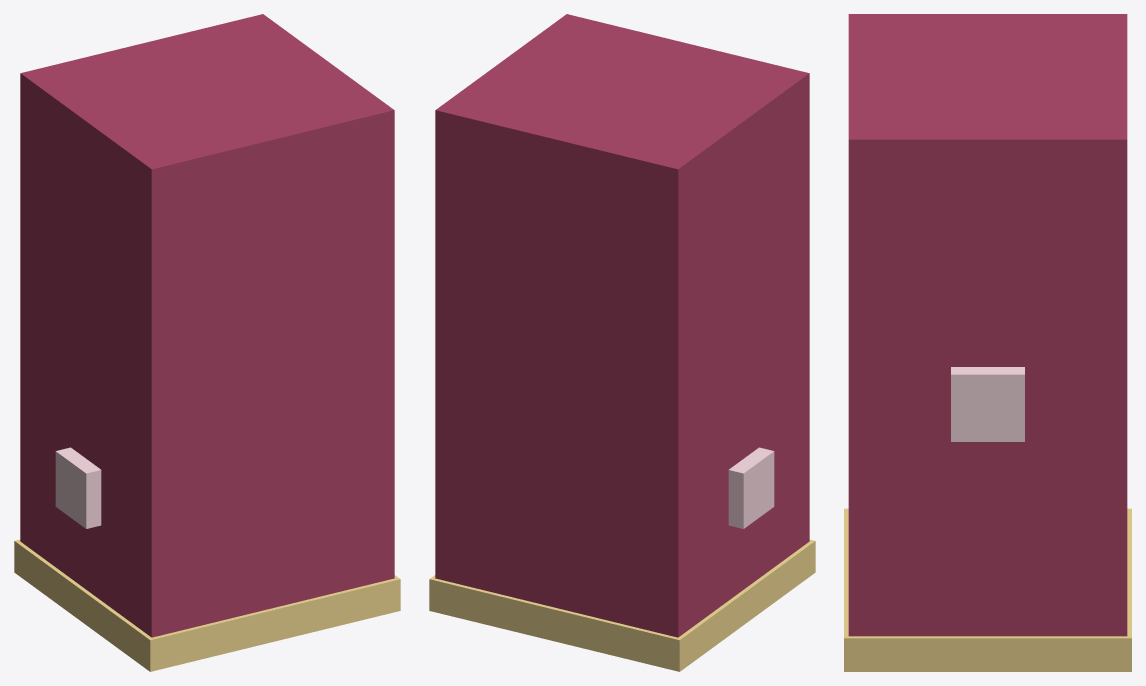
File: furisode_manga_inf.glb
The picture shows the model from 3 angles, left to right: view 1: azimuth 30°, elevation 25°; view 2: azimuth 150°, elevation 25°; view 3: azimuth 270°, elevation 25°; orthographic projection. The views are drawn at different scales.
Parts seen in each view (by area): view 1: furisode_manga_inf; view 2: furisode_manga_inf; view 3: furisode_manga_inf.
Boxes of the visible parts, x1,y1,x2,y2 form: furisode_manga_inf: (14, 14, 400, 671); furisode_manga_inf: (429, 14, 815, 671); furisode_manga_inf: (844, 14, 1131, 671).
Size of the model in its own units: 0.36 by 0.63 by 0.31.
